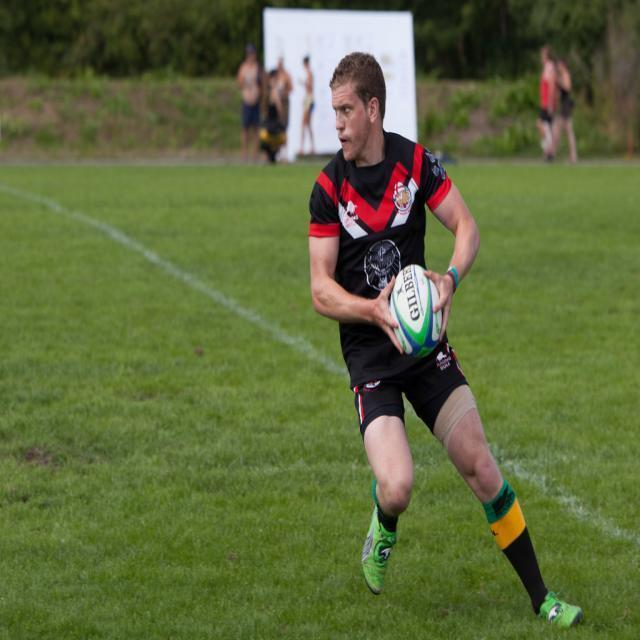ball: (386, 265, 444, 363)
